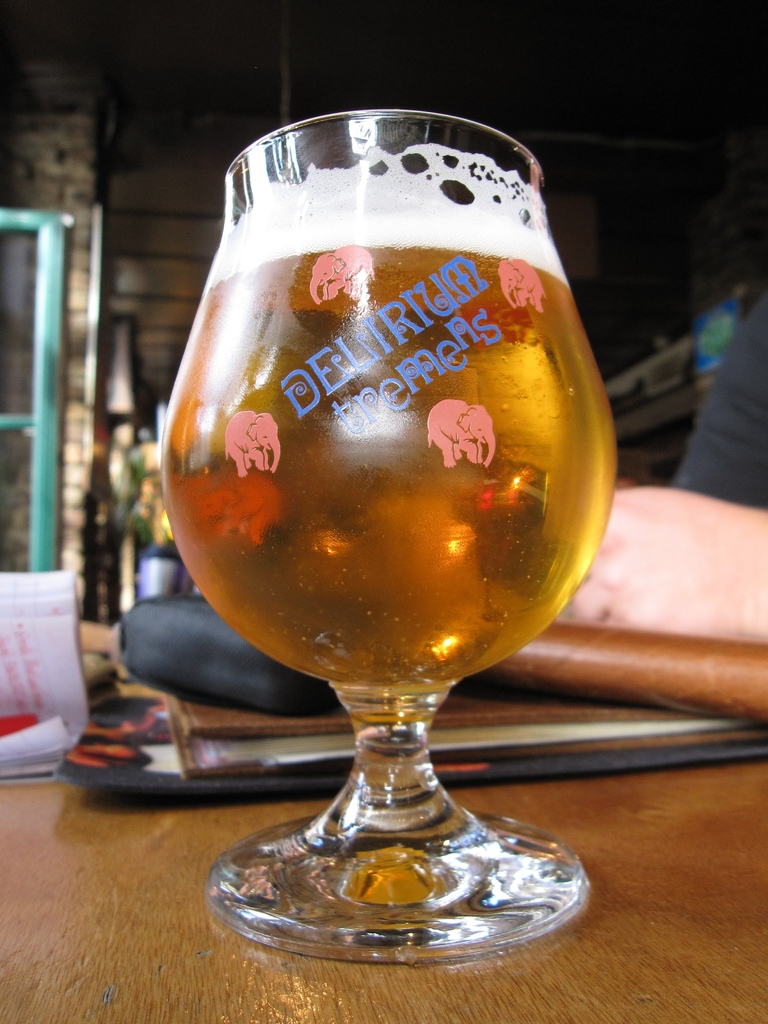Beer: (159, 147, 615, 702)
